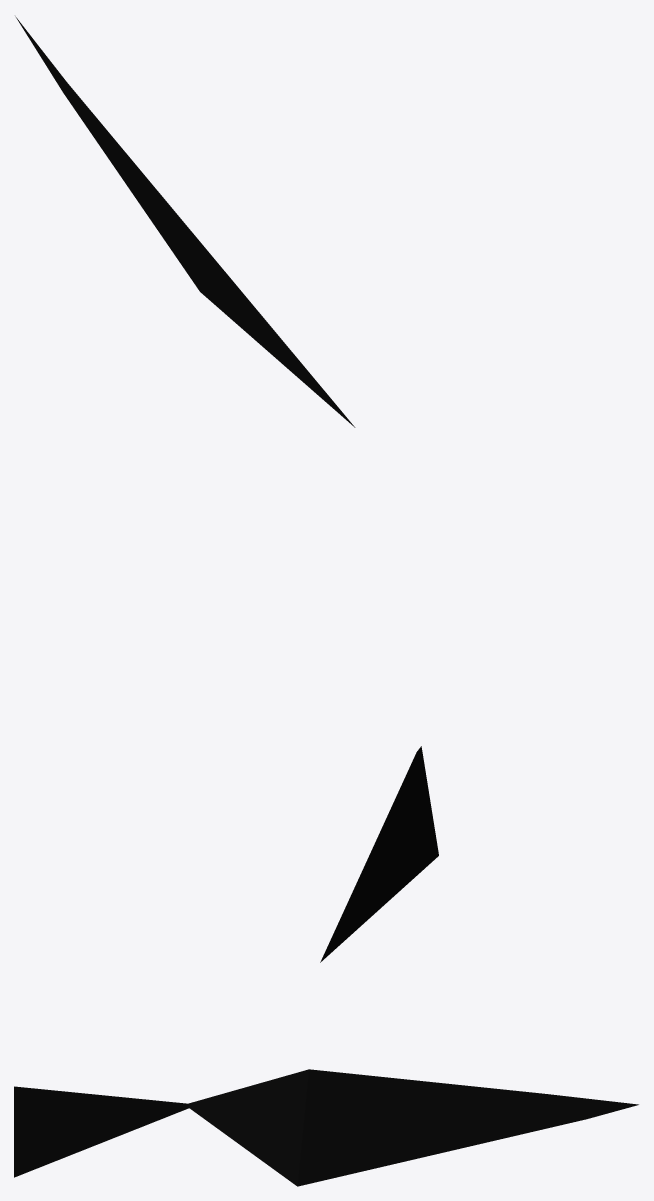
3 renders of one model, top to bottom at view 1: azimuth 30°, elevation 25°; view 2: azimuth 150°, elevation 25°; view 3: azimuth 270°, elevation 25°, orthographic. The views are drawn at different scales.
Bounding box in the file's own units: 0.1225 × 0.1325 × 0.9166.
1 material, 1 textured.
